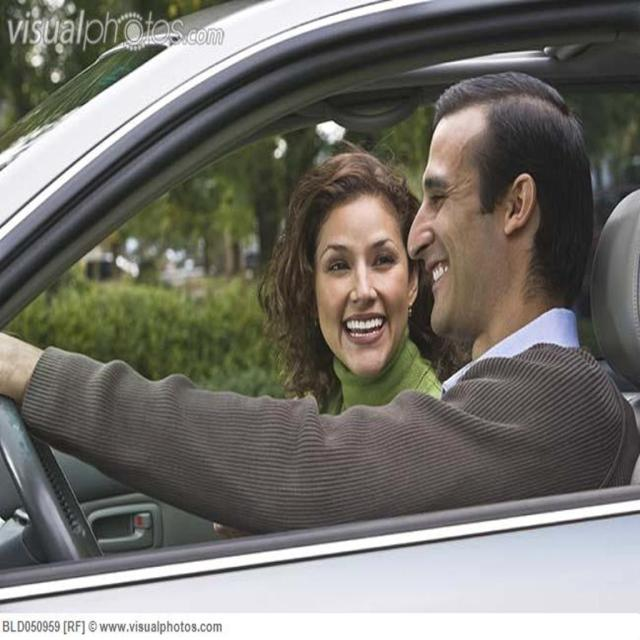Face: (414, 122, 494, 337), (323, 196, 415, 379)
